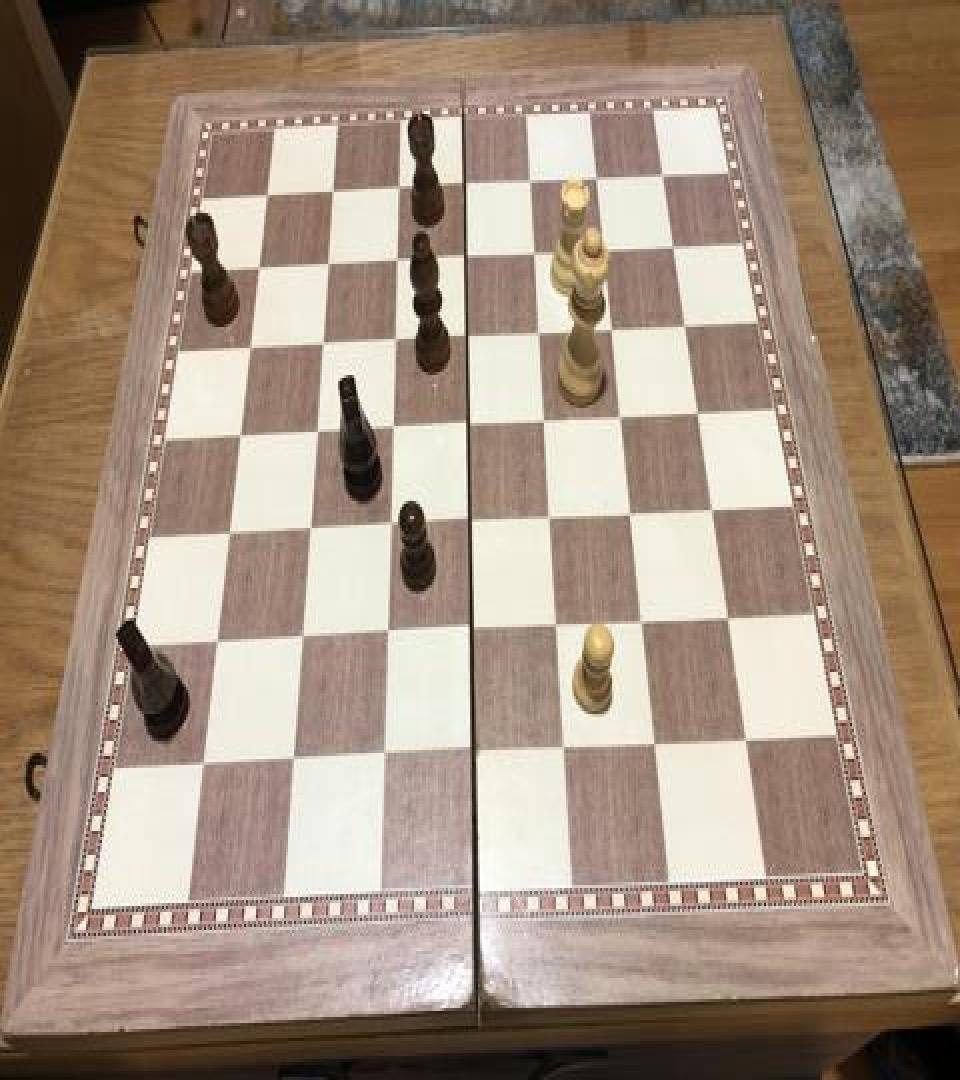xcorner: (290, 622, 314, 659), (204, 625, 228, 662), (372, 739, 396, 776), (190, 748, 214, 785), (654, 160, 678, 196), (588, 164, 612, 200), (522, 165, 546, 201), (456, 168, 480, 204), (390, 171, 414, 207), (323, 174, 347, 210), (257, 177, 281, 213), (665, 231, 689, 267), (596, 234, 620, 270), (526, 237, 550, 273), (457, 240, 481, 276), (388, 244, 412, 280), (318, 248, 342, 284), (248, 250, 272, 286), (676, 310, 700, 346), (603, 314, 627, 350), (531, 316, 555, 352), (458, 320, 482, 356), (385, 324, 409, 360), (312, 327, 336, 363), (239, 330, 263, 366), (688, 398, 712, 434), (612, 400, 636, 436), (536, 404, 560, 440), (459, 408, 483, 444), (382, 411, 406, 447), (305, 416, 329, 452), (228, 418, 252, 454), (702, 494, 726, 530), (622, 496, 646, 532), (541, 501, 565, 537), (460, 506, 484, 542), (379, 508, 403, 544), (298, 513, 322, 549), (217, 516, 241, 552), (717, 600, 741, 636), (632, 604, 656, 640), (547, 609, 571, 645), (462, 614, 486, 650), (376, 618, 400, 654), (735, 722, 759, 758), (644, 726, 668, 762), (554, 730, 578, 766), (463, 735, 487, 771), (281, 744, 305, 780)
